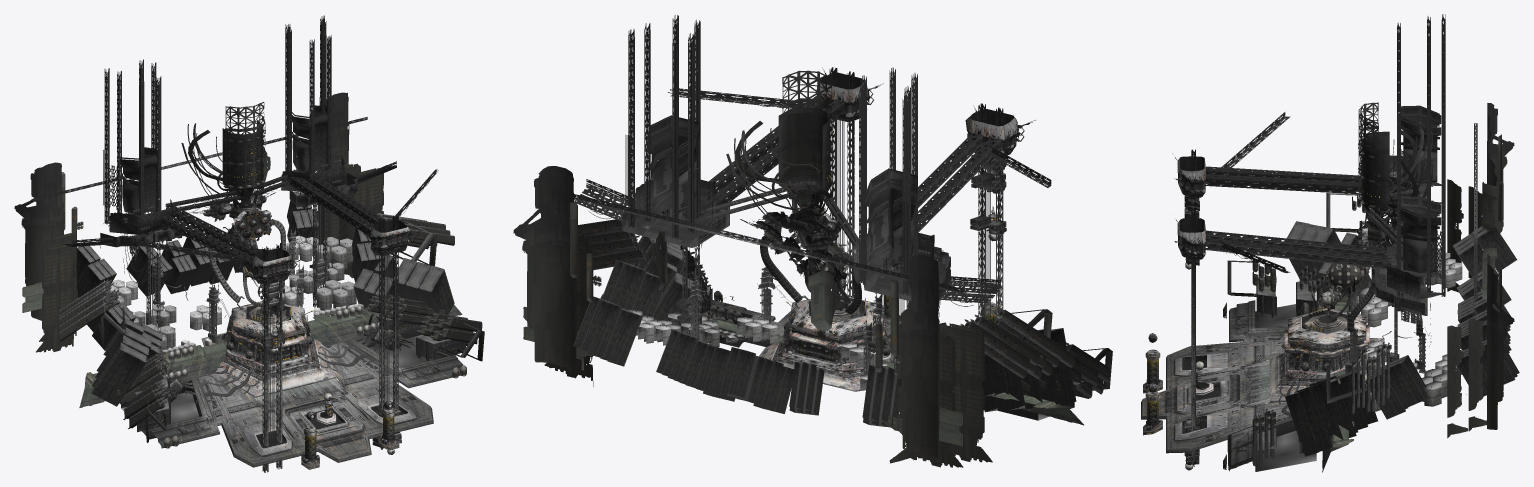
File: ebg002_dmtr.glb
3 renders of one model, left to right at view 1: azimuth 30°, elevation 25°; view 2: azimuth 150°, elevation 25°; view 3: azimuth 270°, elevation 25°, orthographic. The views are drawn at different scales.
Visible parts, largest first — view 1: ebg002_dmtr; view 2: ebg002_dmtr; view 3: ebg002_dmtr.
Boxes of the visible parts, x1,y1,x2,y2 form: ebg002_dmtr: [14, 15, 484, 472]; ebg002_dmtr: [513, 15, 1112, 467]; ebg002_dmtr: [1141, 14, 1519, 472].
Bounding box in the file's own units: 53.38 × 44.16 × 41.06.
Materials: 22 (22 with a texture image).
